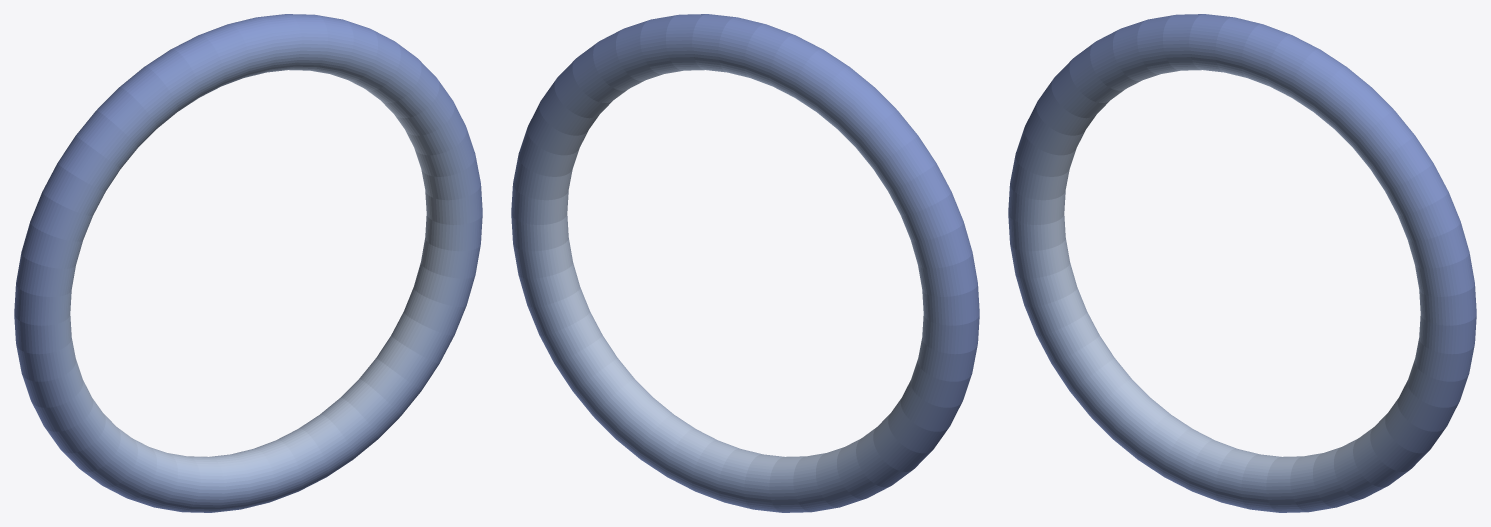
The picture shows the model from 3 angles, left to right: view 1: azimuth 30°, elevation 25°; view 2: azimuth 150°, elevation 25°; view 3: azimuth 330°, elevation 25°; orthographic projection.
Visible parts, largest first — view 1: world; view 2: world; view 3: world.
Boxes of the visible parts, left/top/right/bottom form: world: left=14, top=14, right=482, bottom=512; world: left=511, top=14, right=979, bottom=512; world: left=1008, top=14, right=1476, bottom=512.
Bounding box in the file's own units: 29.07 × 29.01 × 3.06.
